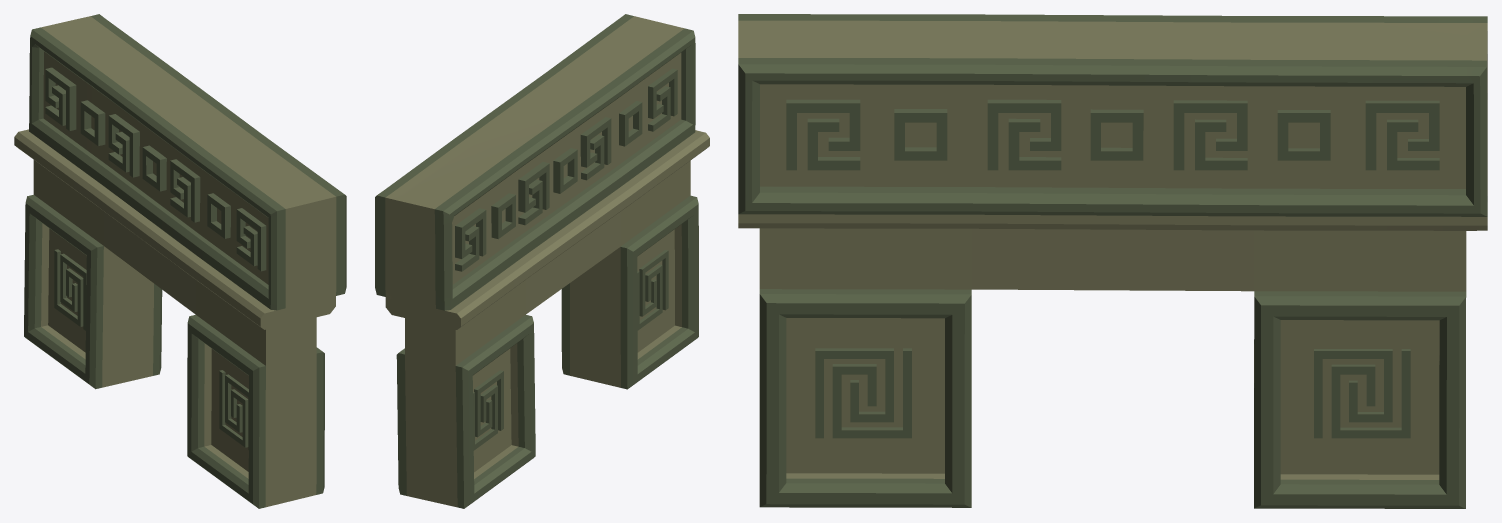
Rendered from temple_ark_side.fbx.
3 renders of one model, left to right at view 1: azimuth 30°, elevation 25°; view 2: azimuth 150°, elevation 25°; view 3: azimuth 270°, elevation 25°, orthographic. The views are drawn at different scales.
Parts seen in each view (by area): view 1: temple_ark_side_main, temple_ark_side_decorup, temple_ark_side_decordown; view 2: temple_ark_side_main, temple_ark_side_decorup, temple_ark_side_decordown; view 3: temple_ark_side_main, temple_ark_side_decorup, temple_ark_side_decordown.
Part boxes in pixels (x1=…): temple_ark_side_main: x1=14, y1=14, x2=346, y2=508; temple_ark_side_decorup: x1=45, y1=67, x2=266, y2=271; temple_ark_side_decordown: x1=54, y1=249, x2=248, y2=449; temple_ark_side_main: x1=375, y1=14, x2=709, y2=508; temple_ark_side_decorup: x1=455, y1=68, x2=677, y2=271; temple_ark_side_decordown: x1=473, y1=250, x2=668, y2=450; temple_ark_side_main: x1=738, y1=14, x2=1487, y2=508; temple_ark_side_decorup: x1=786, y1=99, x2=1439, y2=170; temple_ark_side_decordown: x1=815, y1=348, x2=1410, y2=438.
Size of the model in its own units: 1.76 by 5.62 by 8.37.
